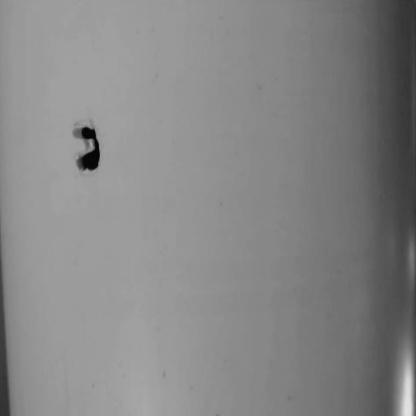kongdong: (70, 114, 107, 187)
